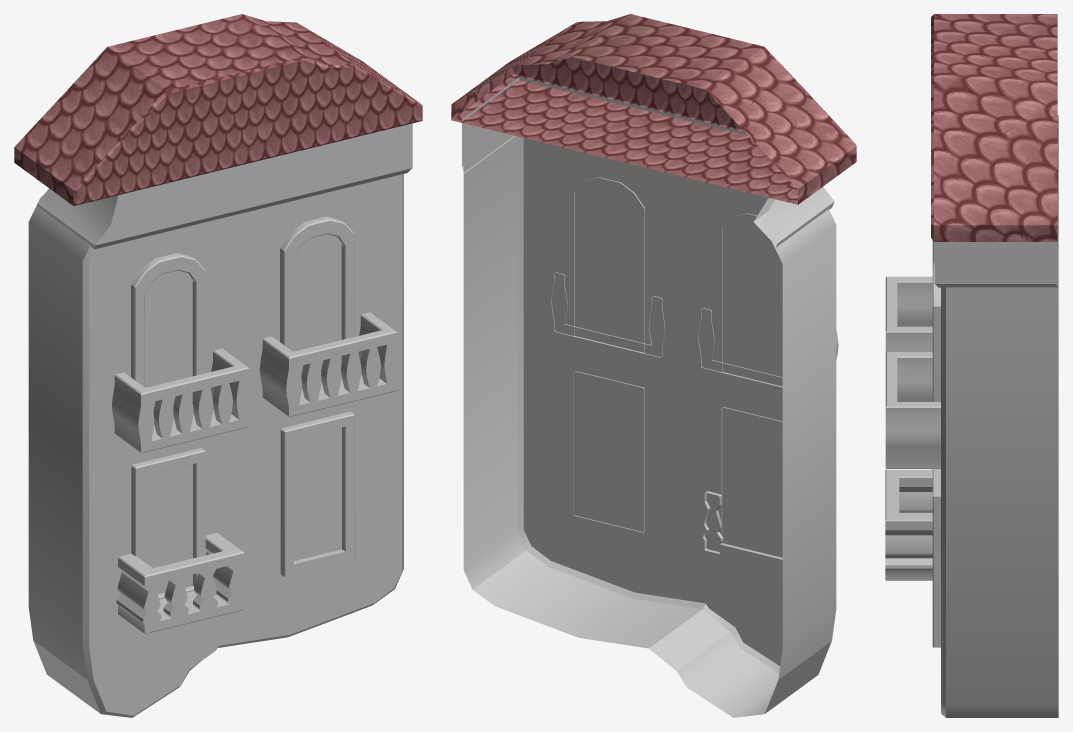
Rendered from ShortHouse001.FBX.
The picture shows the model from 3 angles, left to right: view 1: azimuth 30°, elevation 25°; view 2: azimuth 150°, elevation 25°; view 3: azimuth 270°, elevation 25°; orthographic projection. The views are drawn at different scales.
Parts seen in each view (by area): view 1: ShortBuilding003; view 2: ShortBuilding003; view 3: ShortBuilding003.
Boxes of the visible parts, x1=… form: ShortBuilding003: x1=14, y1=14, x2=422, y2=717; ShortBuilding003: x1=451, y1=14, x2=856, y2=717; ShortBuilding003: x1=885, y1=14, x2=1058, y2=717.
Size of the model in its own units: 757 by 1295 by 312.
